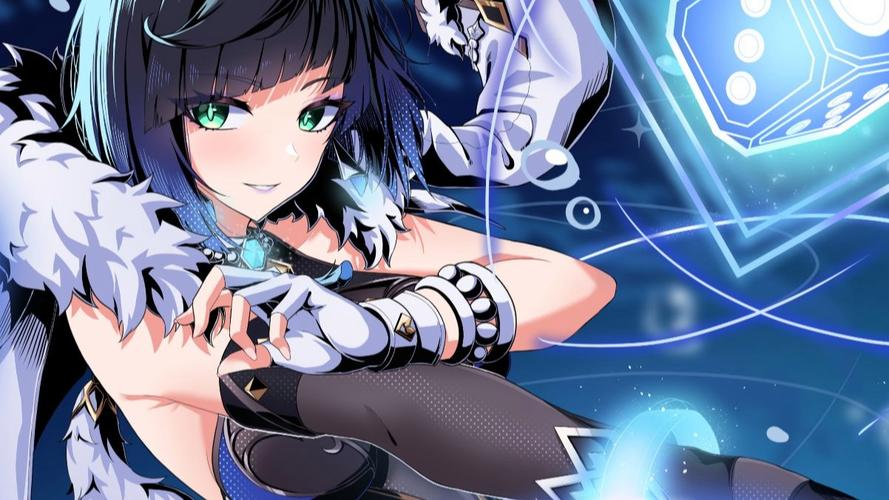夜兰: (1, 1, 865, 497)
